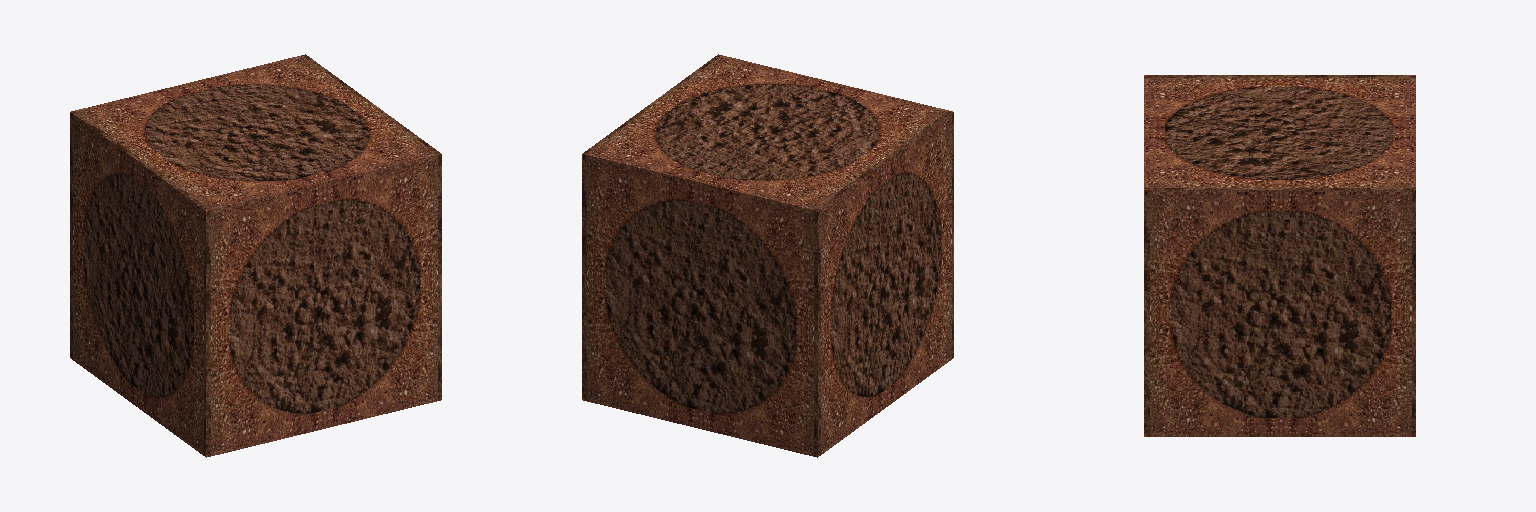
3 renders of one model, left to right at view 1: azimuth 30°, elevation 25°; view 2: azimuth 150°, elevation 25°; view 3: azimuth 270°, elevation 25°, orthographic.
Visible parts, largest first — view 1: cube; view 2: cube; view 3: cube.
Part boxes in pixels (x1,y1,x2,y2): cube: (70, 54, 441, 457); cube: (582, 54, 953, 457); cube: (1144, 75, 1415, 436).
Bounding box in the file's own units: 1 × 1 × 1.
1 materials, 1 textured.